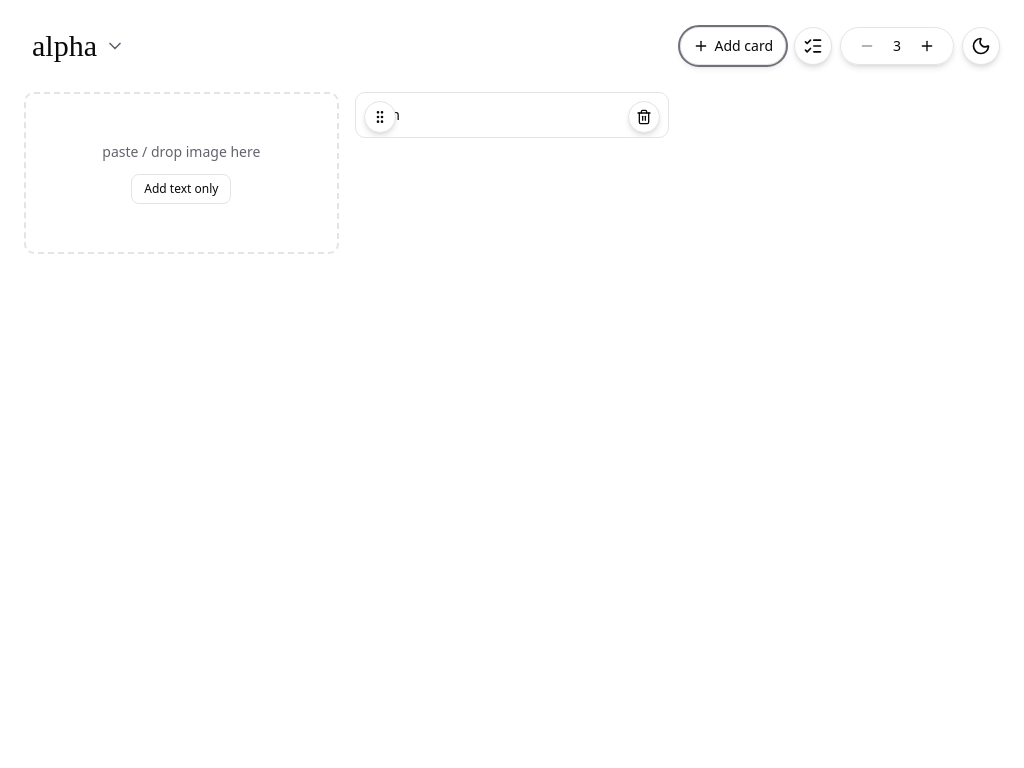
adding colours › shows the server's refusal in the form and keeps what was typed
expect the button with aria-label "Brand" is shown: met, box [24,24,133,68]
Press Enter in the button "Add card", box [680,27,786,65]
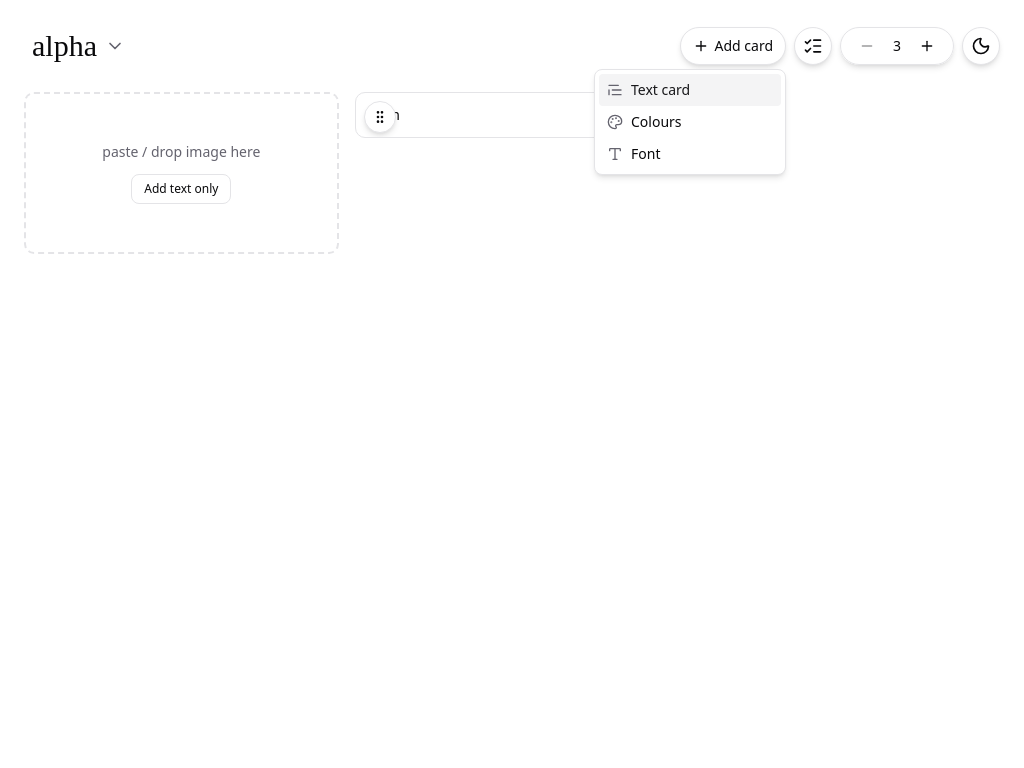
Press Enter in the menu item "Colours", box [607,112,682,131]
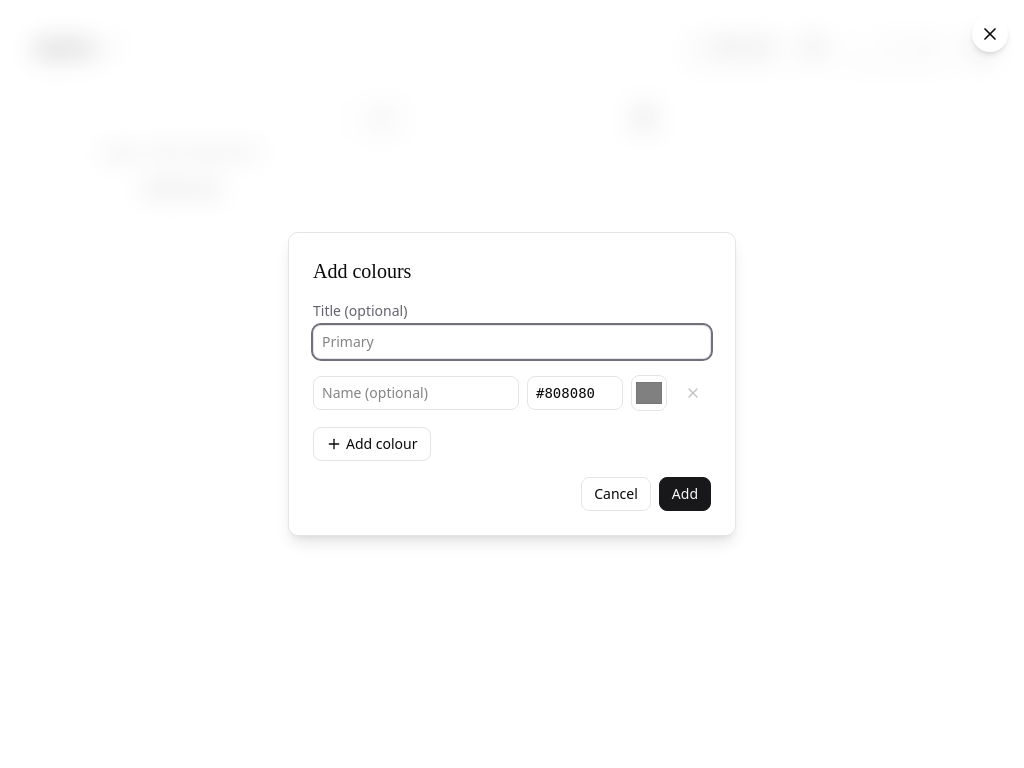
Replace the text in the field named "Colour 1 hex" with "red": (575, 393) [527,376,623,410]
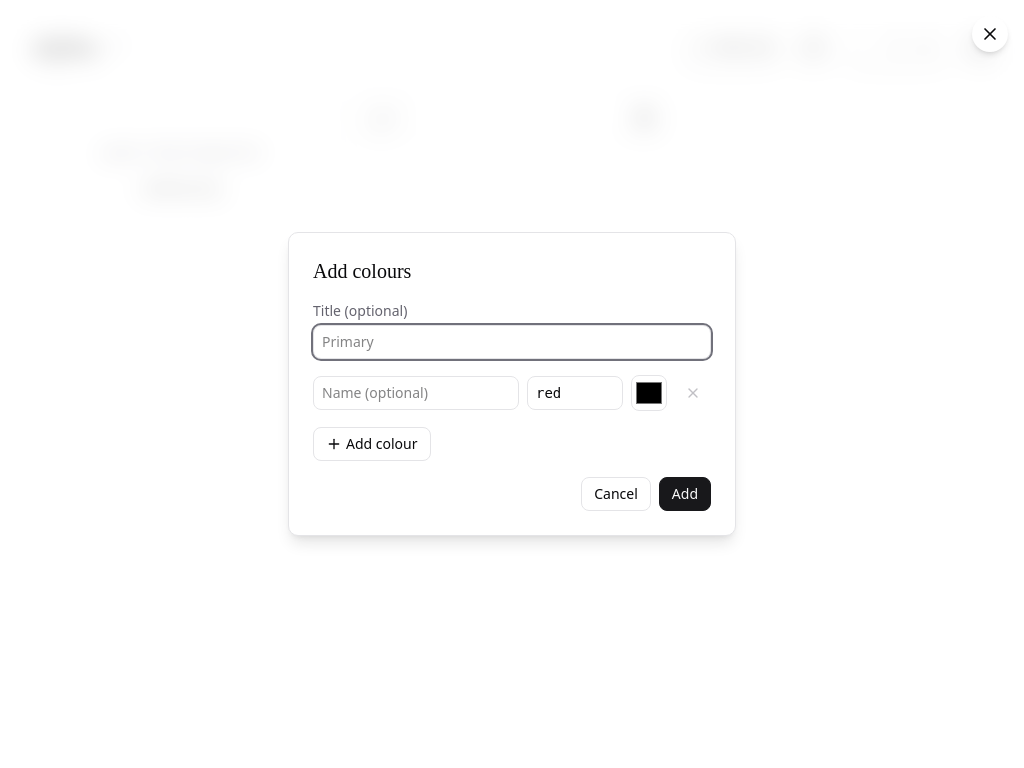
Click the button "Add": click(685, 494) [659,477,711,511]
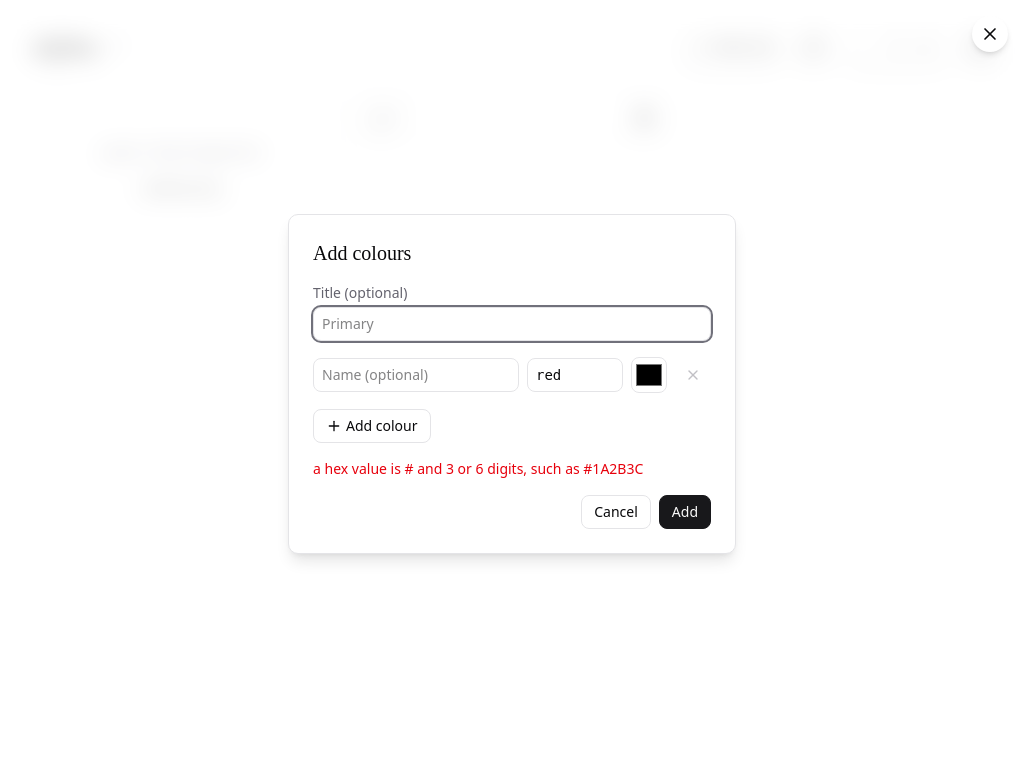
expect the message reads "a hex value is # and 3 or 6 digits, such as #1A2B3C": met, box [313,459,643,478]
Click the button "Cancel": click(616, 512) [581,495,651,529]
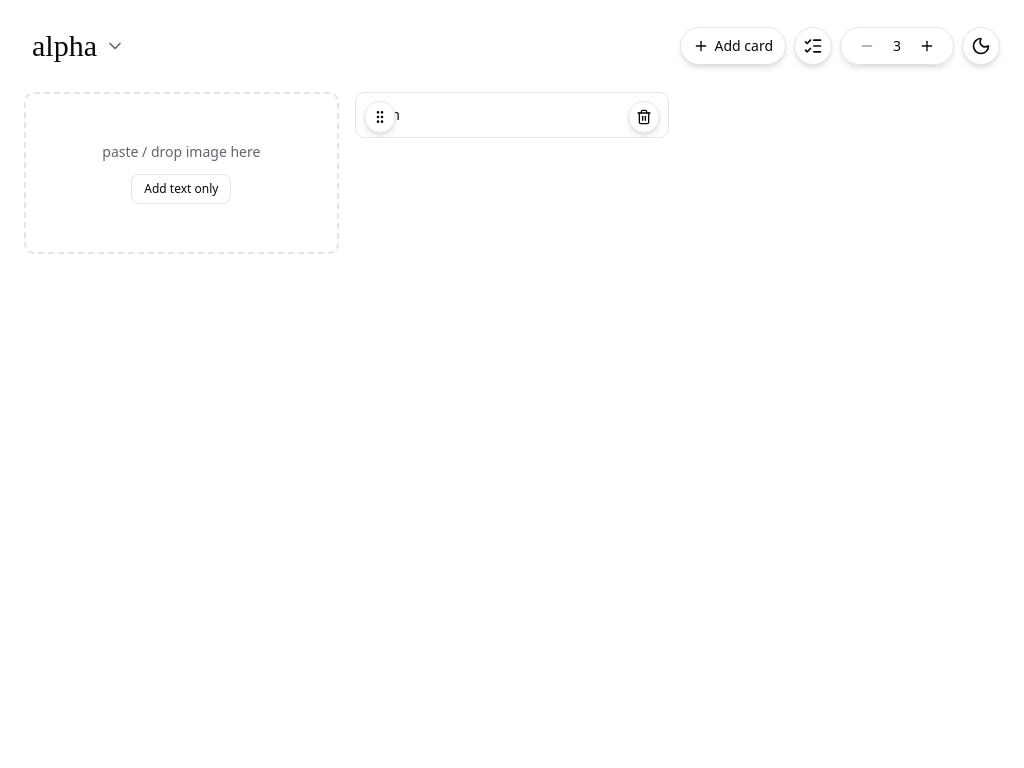
expect the dialog is gone: met
